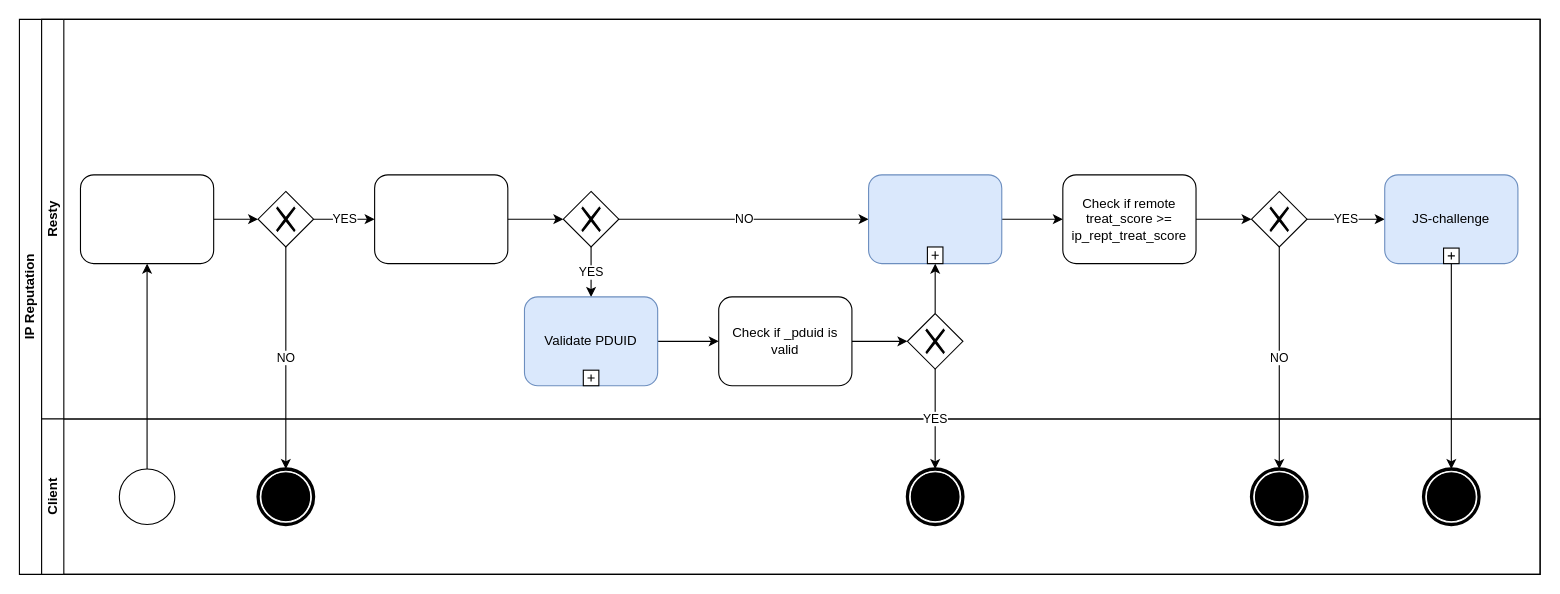
The diagram is 1560 pixels wide and 594 high, and some of its shapes have lost their labels. The centre of each missing label's shape, as x and y in pixels:
Check if _pduid cookie exists: [441,219]
Check if IP reputation is enabled: [146,219]
DNSBL: [934,219]
